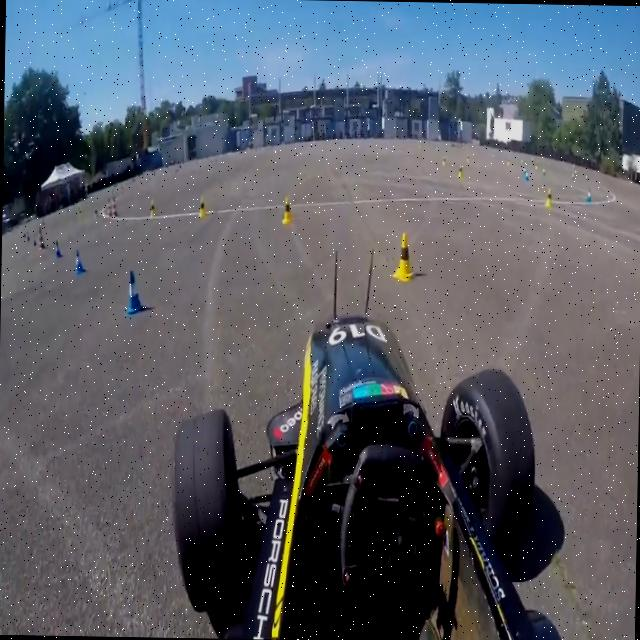blue_cone: (125, 269, 145, 317), (74, 248, 86, 276), (54, 238, 62, 258), (524, 168, 530, 182), (586, 188, 591, 204)
large_orange_cone: (110, 195, 118, 218), (37, 226, 44, 249), (106, 198, 112, 218)
yellow_cone: (390, 231, 415, 283), (280, 194, 294, 226), (198, 194, 208, 220), (544, 186, 552, 208), (456, 162, 464, 179)
